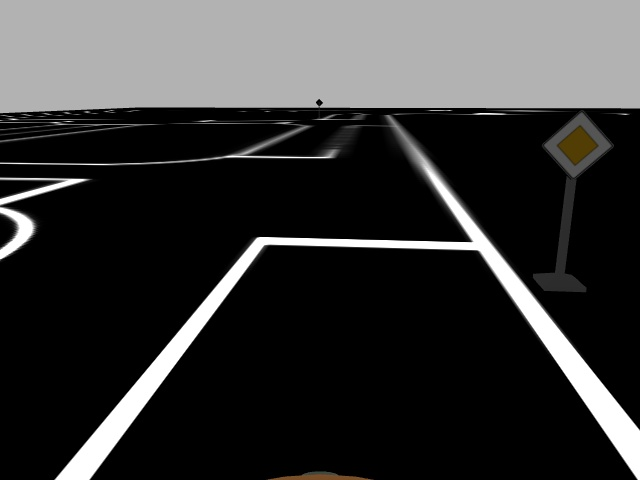priority: (540, 106, 615, 179)
